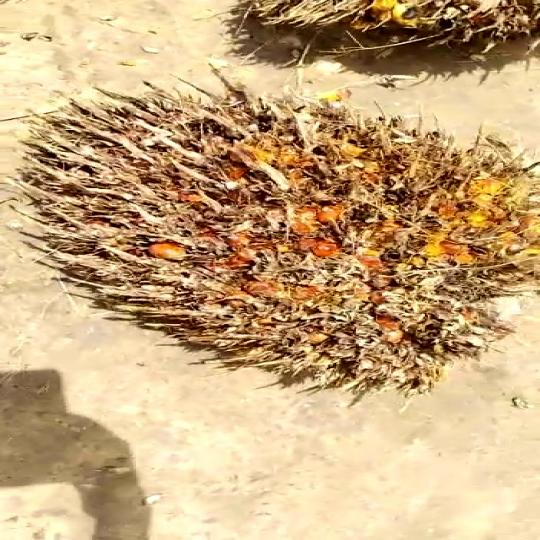terlalu masak: (0, 73, 540, 396)
